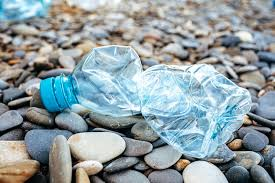plastic_bottle: (40, 45, 252, 159)
